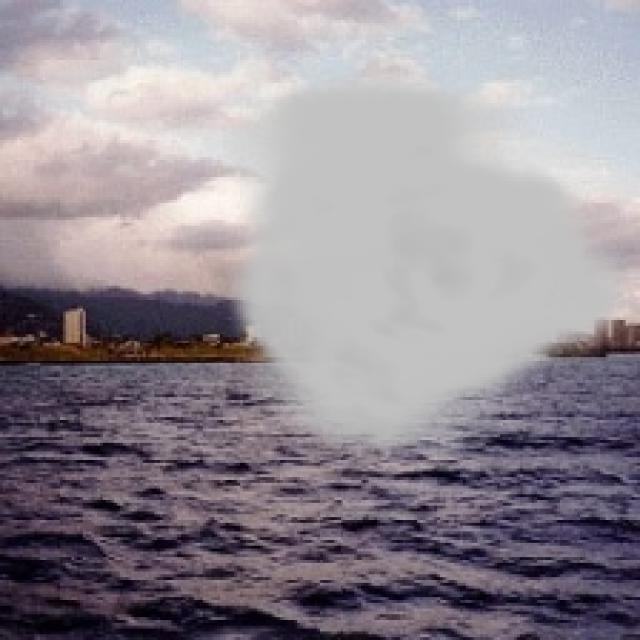Smoke: (222, 69, 638, 468)
